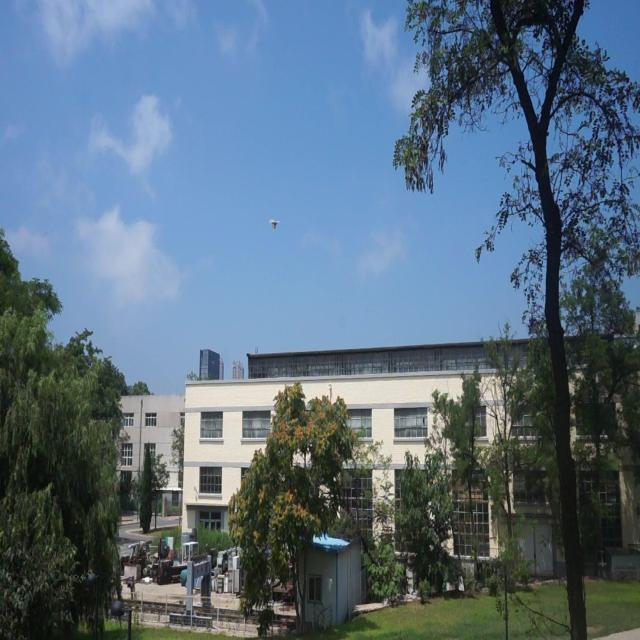drone: (266, 215, 282, 233)
